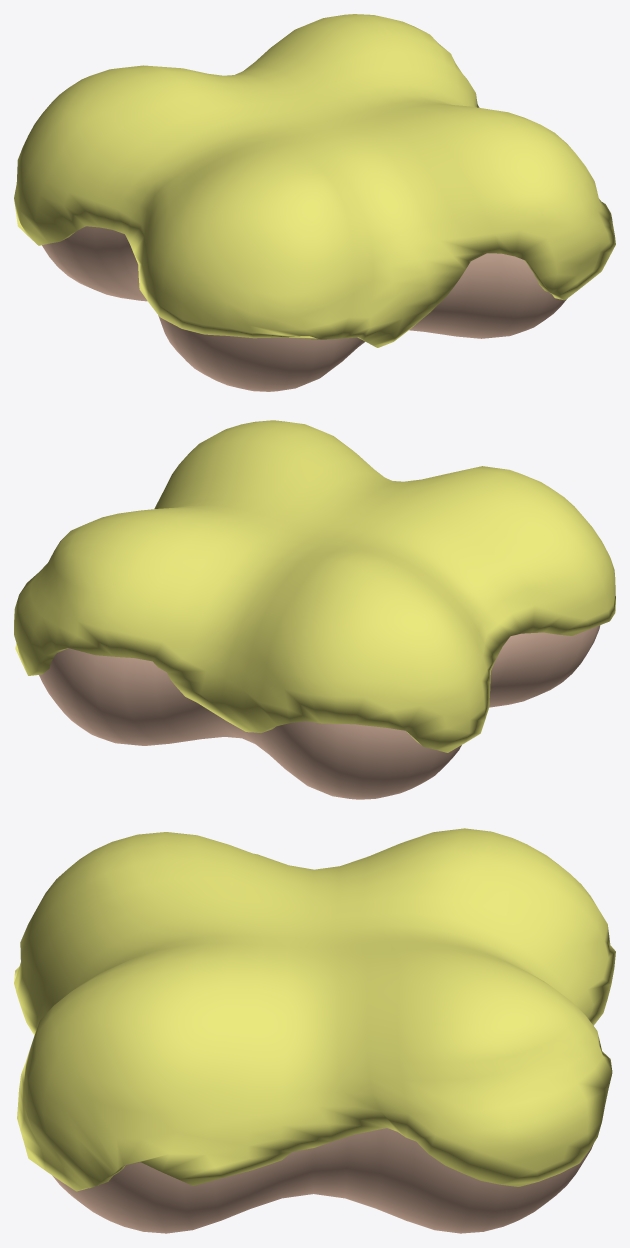
The model's file is wrong yellow clay.fbx.
3 views of the same model, one above another, from view 1: azimuth 30°, elevation 25°; view 2: azimuth 150°, elevation 25°; view 3: azimuth 270°, elevation 25° (orthographic). The views are drawn at different scales.
Parts seen in each view (by area): view 1: wrong yello clay; view 2: wrong yello clay; view 3: wrong yello clay.
Boxes of the visible parts, x1,y1,x2,y2 form: wrong yello clay: (14, 14, 615, 391); wrong yello clay: (14, 420, 615, 799); wrong yello clay: (14, 828, 615, 1233).
Bounding box in the file's own units: 191 × 88.82 × 188.
